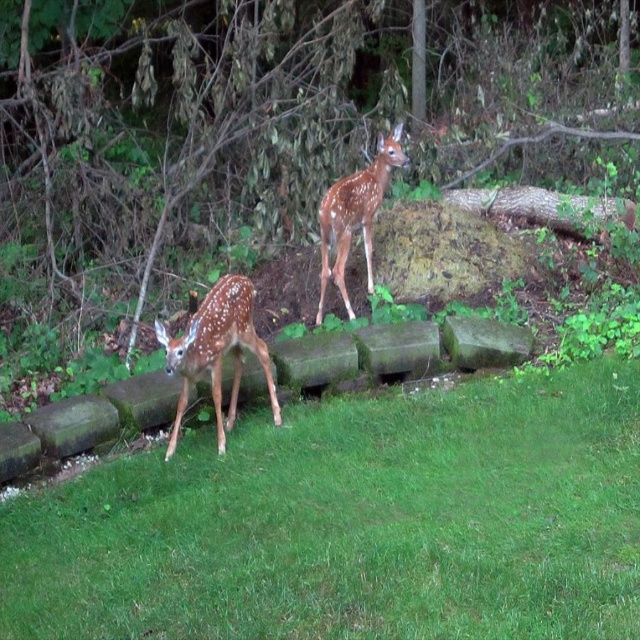Deer: (155, 274, 282, 462), (315, 123, 410, 328)
